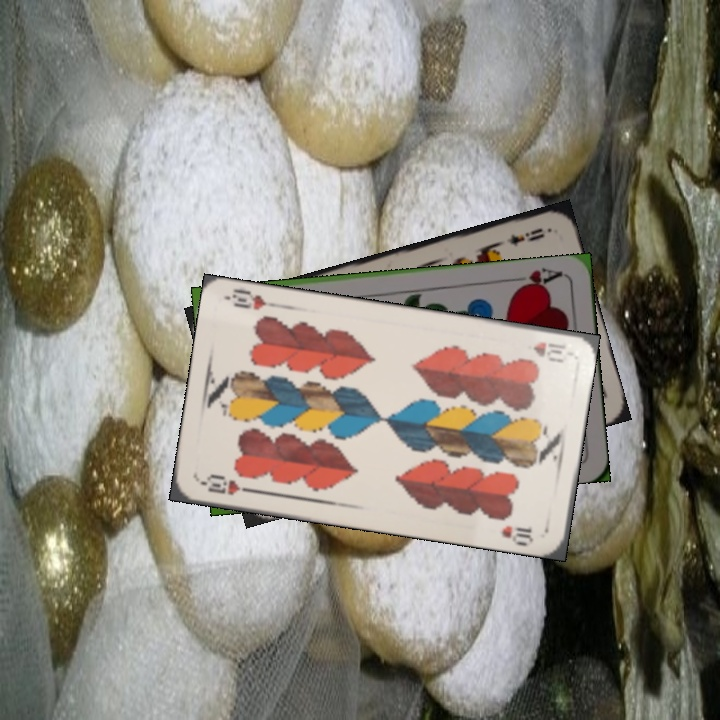E9: (502, 224, 547, 249)
H10: (197, 470, 256, 498), (528, 337, 569, 364)
HA: (507, 264, 565, 294)
